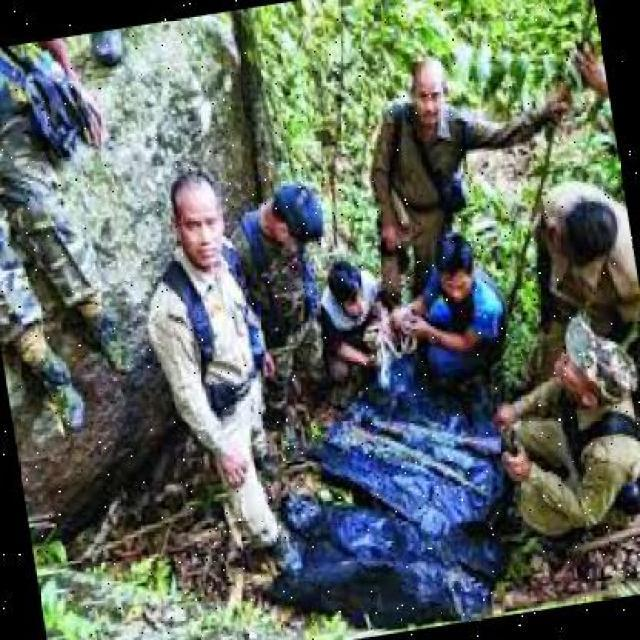poacher: (407, 216, 541, 406), (297, 226, 408, 399)
ranger: (132, 146, 288, 525), (501, 300, 640, 502)
